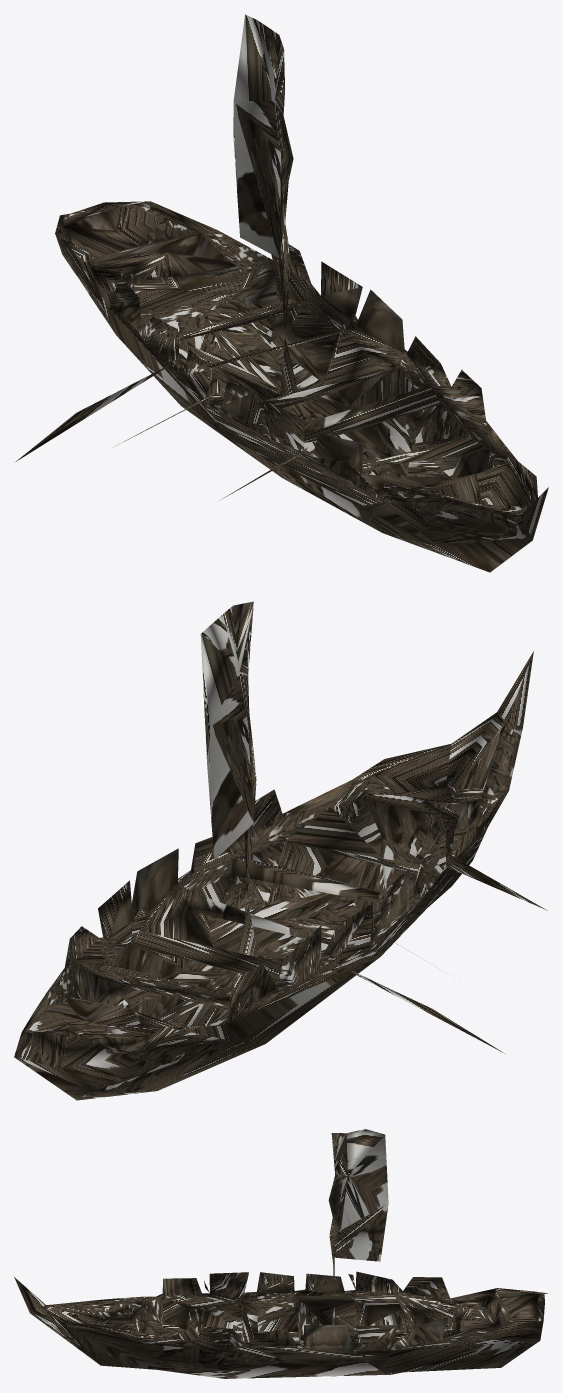
The model's file is kobaya_lod2.glb.
The picture shows the model from 3 angles, top to bottom: view 1: azimuth 30°, elevation 25°; view 2: azimuth 150°, elevation 25°; view 3: azimuth 270°, elevation 25°; orthographic projection. The views are drawn at different scales.
Visible parts, largest first — view 1: tripo_node_a41fa920-4eb9-4cb9-be5d-4c4bae7727ba; view 2: tripo_node_a41fa920-4eb9-4cb9-be5d-4c4bae7727ba; view 3: tripo_node_a41fa920-4eb9-4cb9-be5d-4c4bae7727ba.
Part boxes in pixels (x1,y1,x2,y2): tripo_node_a41fa920-4eb9-4cb9-be5d-4c4bae7727ba: (16, 14, 548, 572); tripo_node_a41fa920-4eb9-4cb9-be5d-4c4bae7727ba: (14, 601, 547, 1100); tripo_node_a41fa920-4eb9-4cb9-be5d-4c4bae7727ba: (14, 1129, 547, 1378).
Size of the model in its own units: 0.4388 by 0.4685 by 0.948.
Materials: 1 (1 with a texture image).
